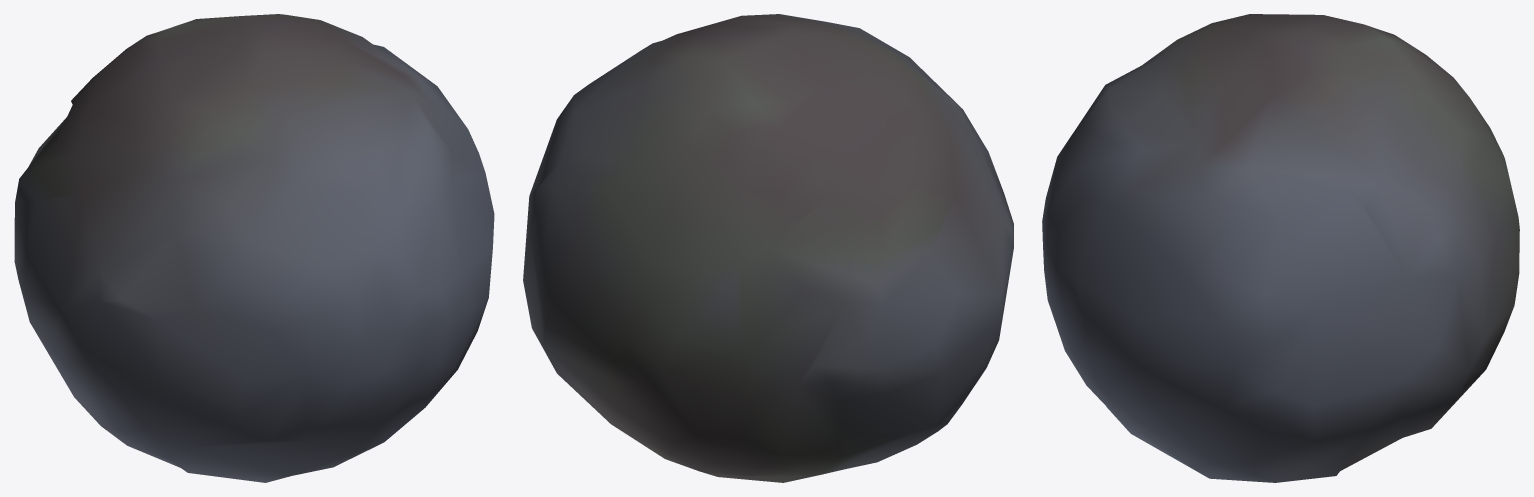
File: space-asteroids-asteroid_v14.glb
3 views of the same model, side by side, from view 1: azimuth 30°, elevation 25°; view 2: azimuth 150°, elevation 25°; view 3: azimuth 270°, elevation 25° (orthographic). The views are drawn at different scales.
Visible parts, largest first — view 1: Asteroid_v14; view 2: Asteroid_v14; view 3: Asteroid_v14.
Part boxes in pixels (x1,y1,x2,y2): Asteroid_v14: (14,14,494,482); Asteroid_v14: (523,14,1013,482); Asteroid_v14: (1042,14,1519,482).
Size of the model in its own units: 500 by 482 by 486.
